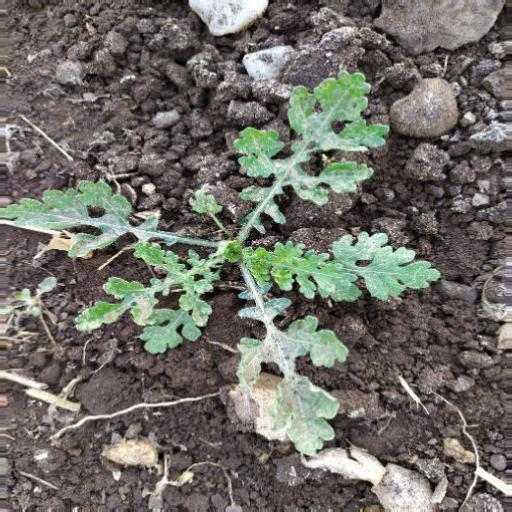weed: (10, 81, 440, 394)
